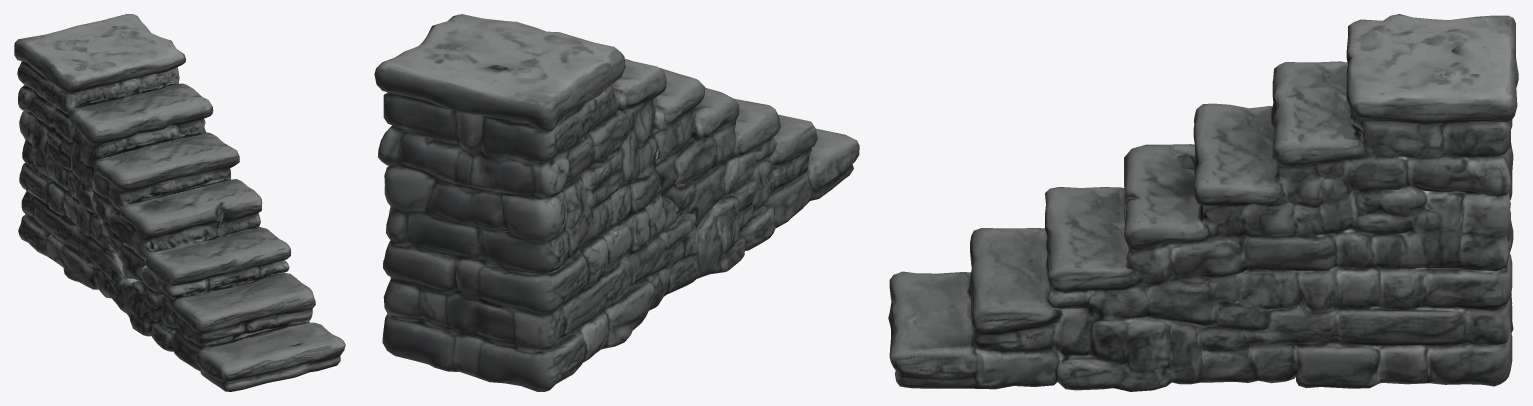
The model's file is stonesteps.glb.
The picture shows the model from 3 angles, left to right: view 1: azimuth 30°, elevation 25°; view 2: azimuth 150°, elevation 25°; view 3: azimuth 270°, elevation 25°; orthographic projection. The views are drawn at different scales.
Size of the model in its own units: 0.6341 by 0.9902 by 1.91.
Materials: 1 (1 with a texture image).
